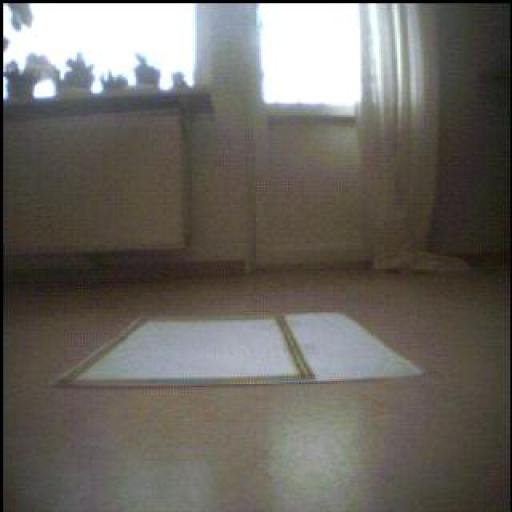Pad: (59, 315, 422, 387)
